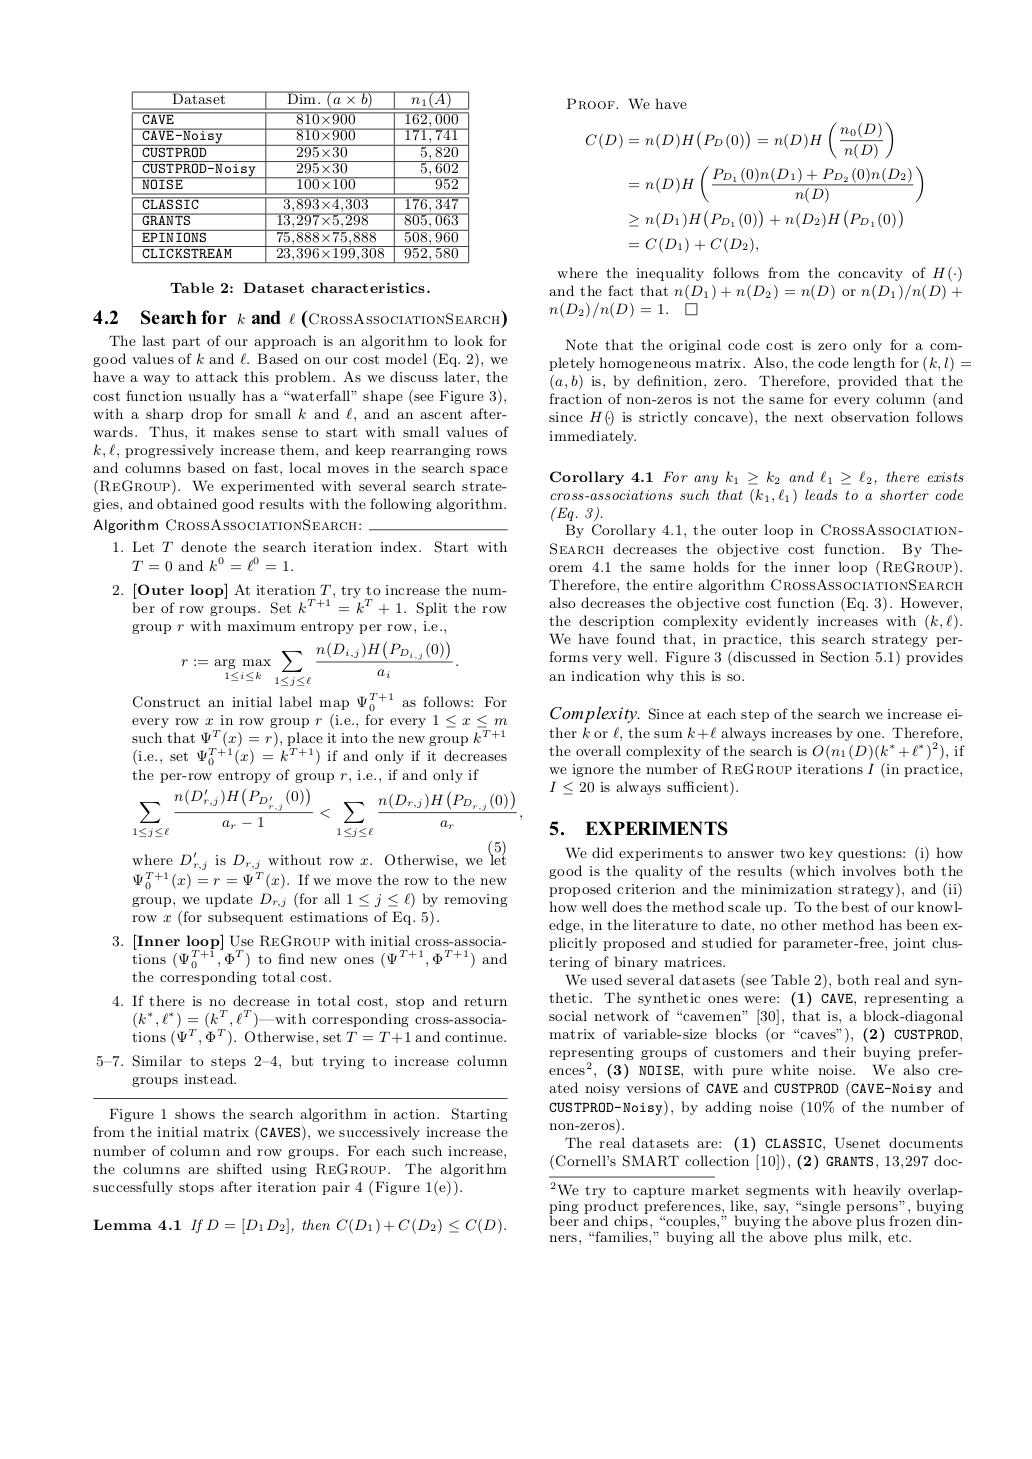Table: (131, 90, 469, 263)
formula: (133, 787, 520, 837), (181, 640, 457, 687), (585, 121, 894, 159), (629, 165, 923, 203), (629, 209, 902, 229), (132, 555, 292, 572), (629, 237, 757, 253)
